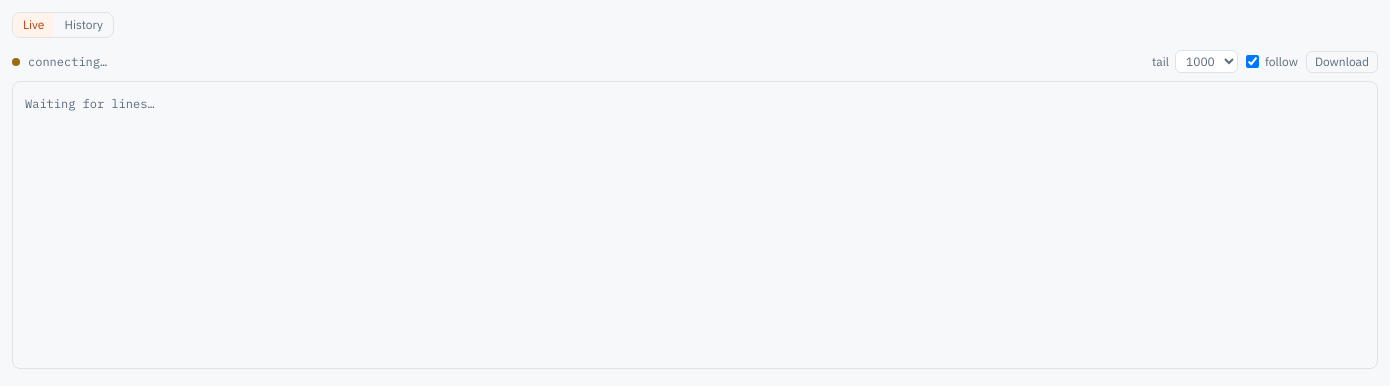
Test: LogsPanel — сегмент Live | История › unavailable/upstream → заметка «хранилище недоступно, live работает»
The width and height of the screenshot is (1390, 386).
Click the button "History" at {"x": 84, "y": 25}, box [54,13,113,37]
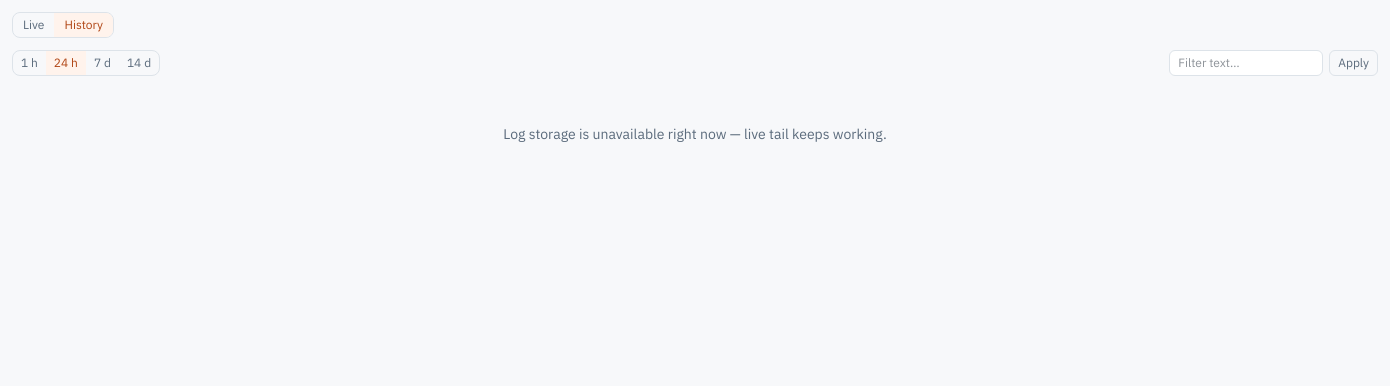
Result: the text "Log storage is unavailable right now — live tail keeps working." is shown at [503,125,887,143]
